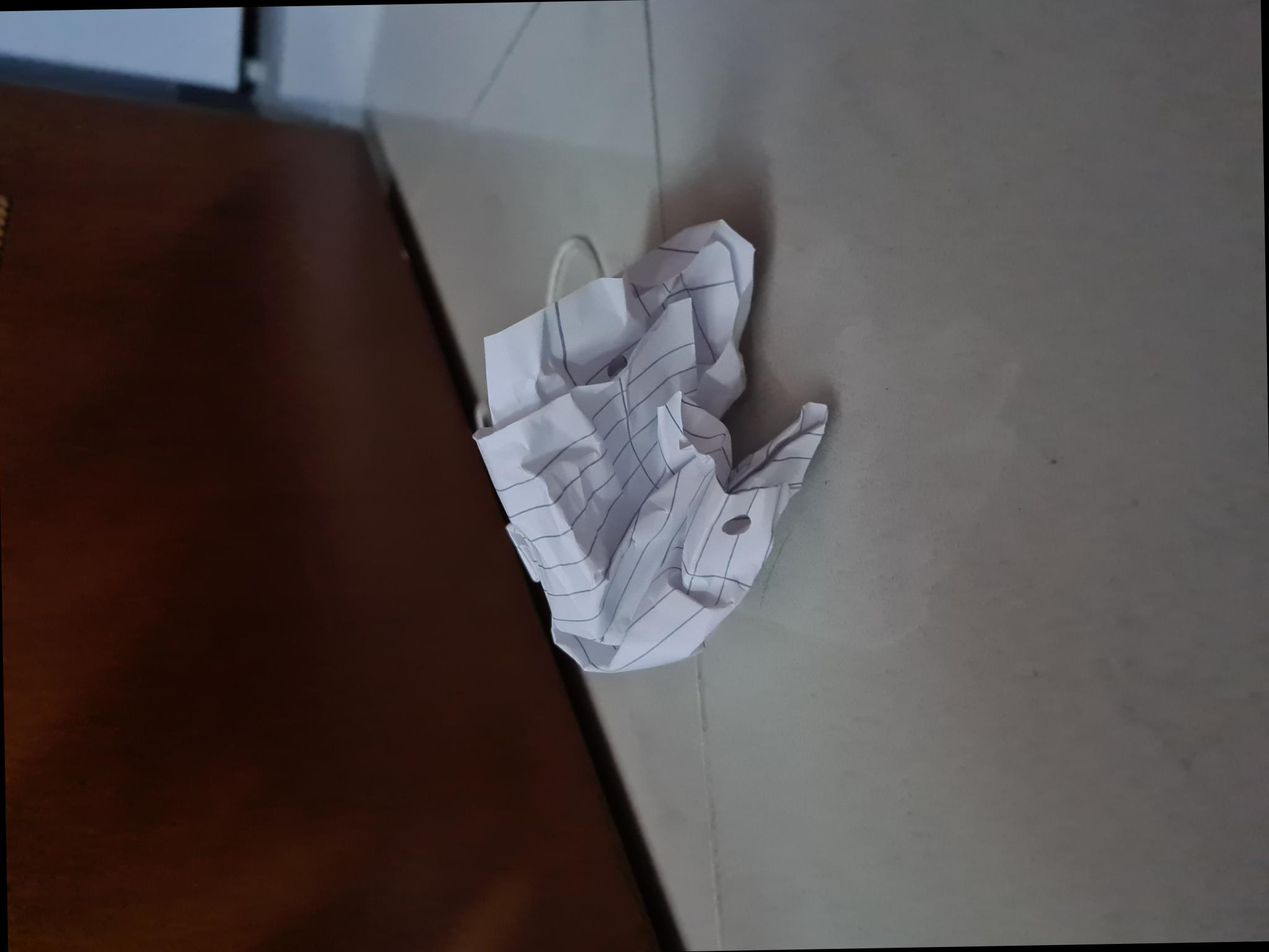Kertas: (261, 471, 752, 838)
